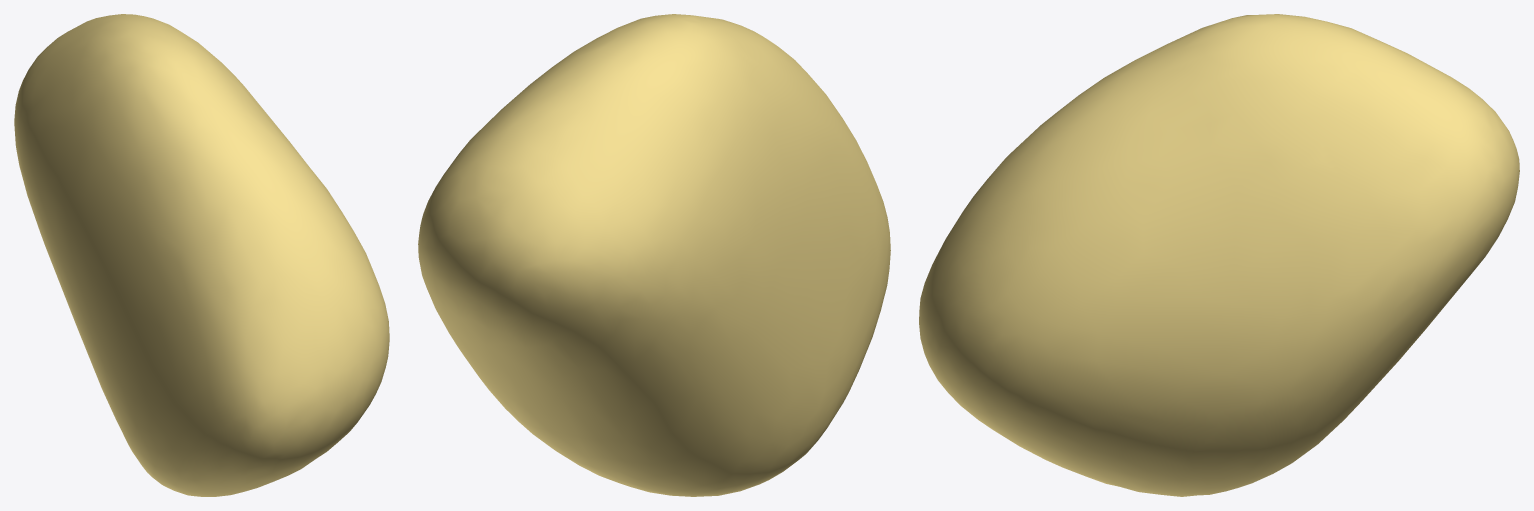
Rendered from fma73342_mm2972.glb.
3 views of the same model, side by side, from view 1: azimuth 30°, elevation 25°; view 2: azimuth 150°, elevation 25°; view 3: azimuth 270°, elevation 25° (orthographic). The views are drawn at different scales.
Visible parts, largest first — view 1: FMA73342_MM2972; view 2: FMA73342_MM2972; view 3: FMA73342_MM2972.
Part boxes in pixels (x1,y1,x2,y2): FMA73342_MM2972: [14, 14, 389, 496]; FMA73342_MM2972: [418, 14, 890, 496]; FMA73342_MM2972: [919, 14, 1519, 496].
Bounding box in the file's own units: 0.00318 × 0.00531 × 0.00626.
